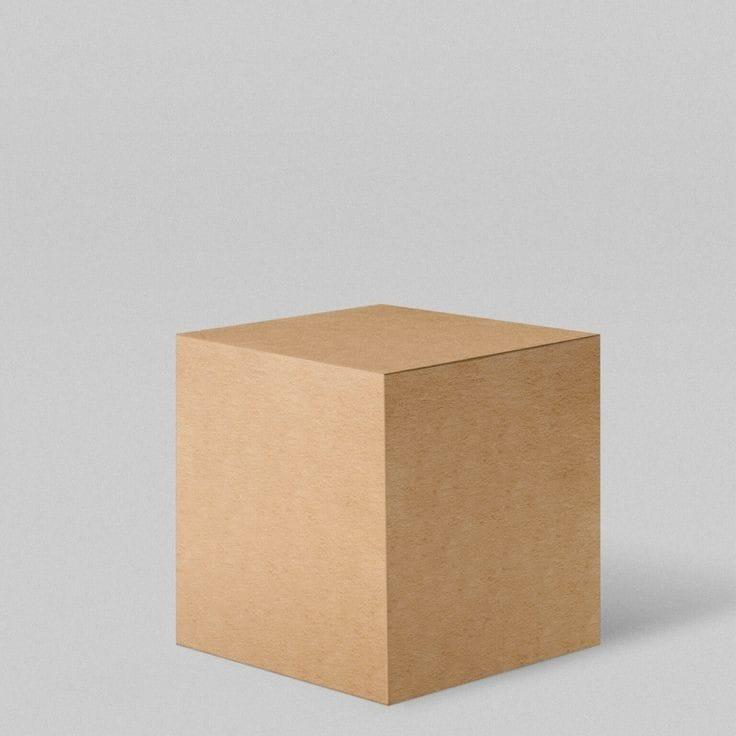cubos: (167, 287, 628, 708)
